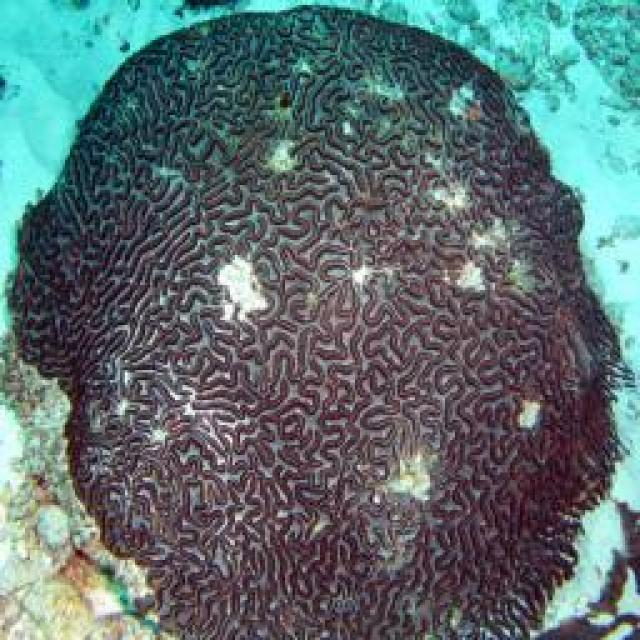reefs: (15, 6, 636, 637)
